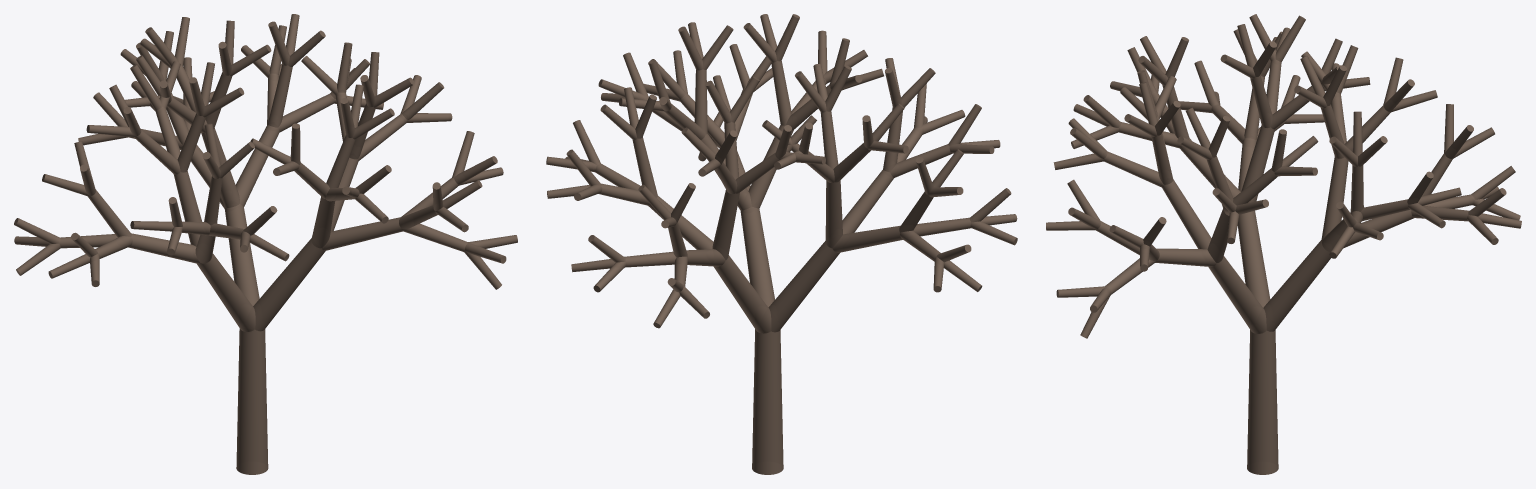
File: fractaltree4.glb
3 views of the same model, side by side, from view 1: azimuth 30°, elevation 25°; view 2: azimuth 150°, elevation 25°; view 3: azimuth 270°, elevation 25° (orthographic).
Bounding box in the file's own units: 10.39 × 9.9 × 10.39.
